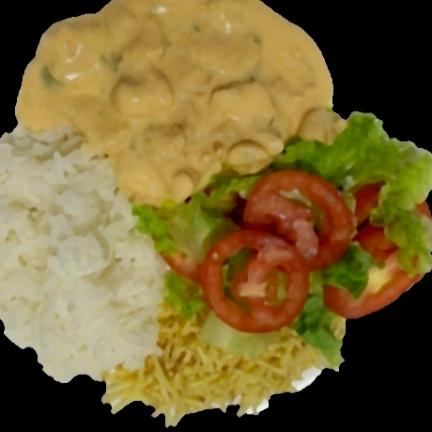chicken: (16, 0, 344, 205)
potato: (103, 306, 327, 427)
rice: (0, 127, 163, 382)
salad: (270, 114, 432, 278), (133, 174, 267, 263), (316, 238, 382, 299), (296, 298, 341, 367), (202, 316, 273, 357), (166, 270, 202, 317)
tomato: (200, 171, 352, 333)
